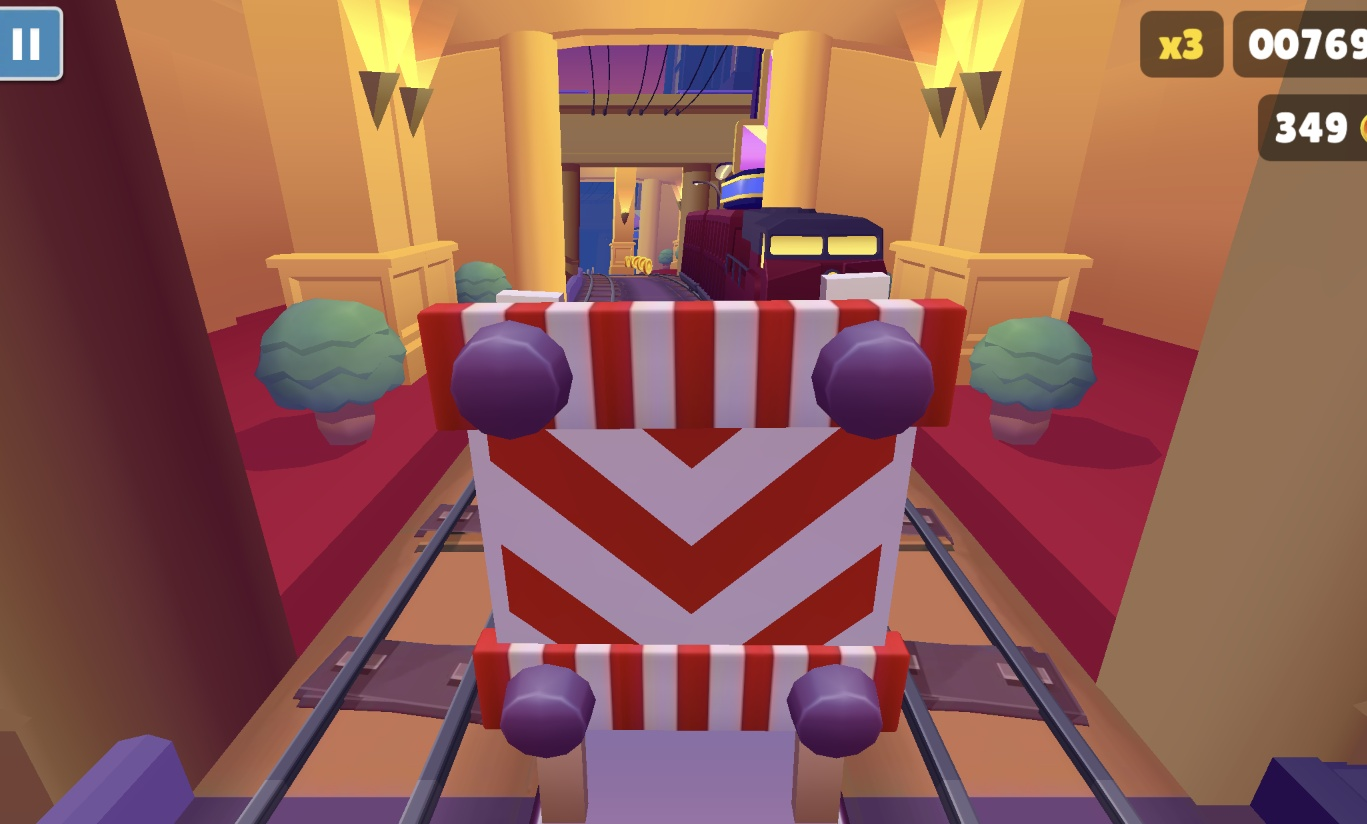overhead_barrier: (416, 272, 970, 824)
pillar: (609, 166, 642, 276)
train: (680, 207, 891, 302)
